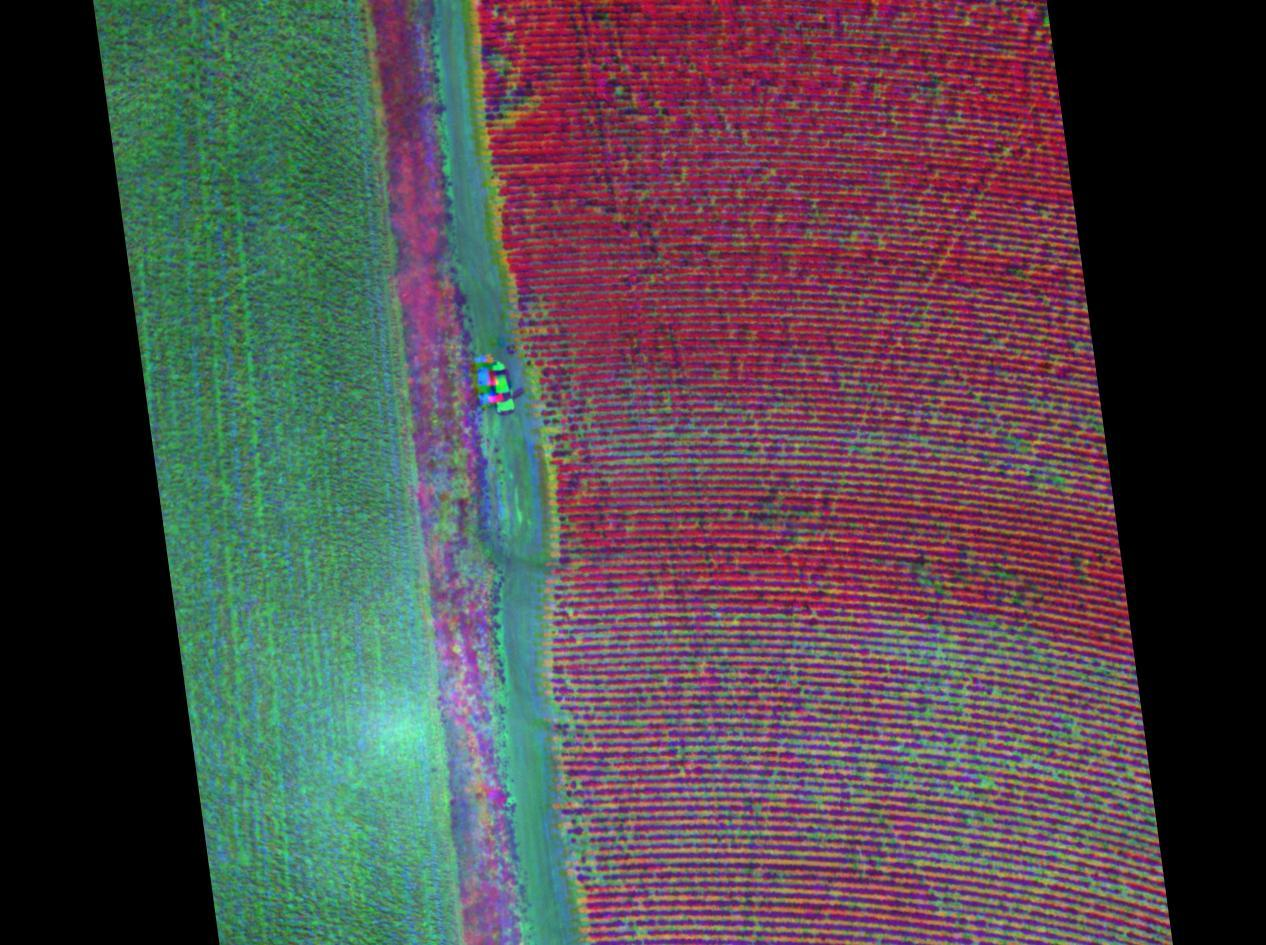dc: (913, 645, 1033, 750), (933, 775, 1038, 878), (691, 643, 799, 732), (961, 885, 1110, 945), (1066, 773, 1137, 862)
